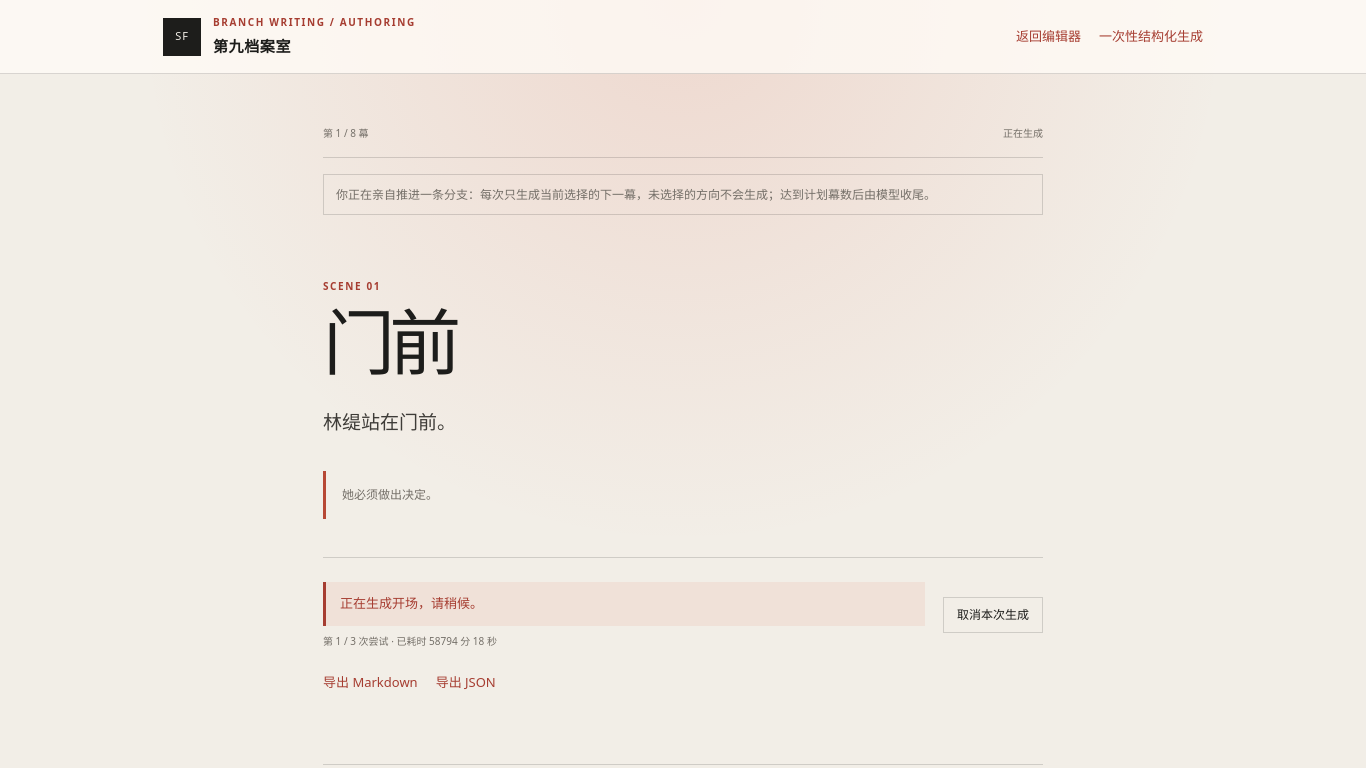
Test: InteractivePlayer › allows the author to cancel a generation in progress
Expected: the text "正在生成开场，请稍候。" is shown, [323,582,925,626]
Click the button "取消本次生成" at (993, 616), box [943,598,1043,634]
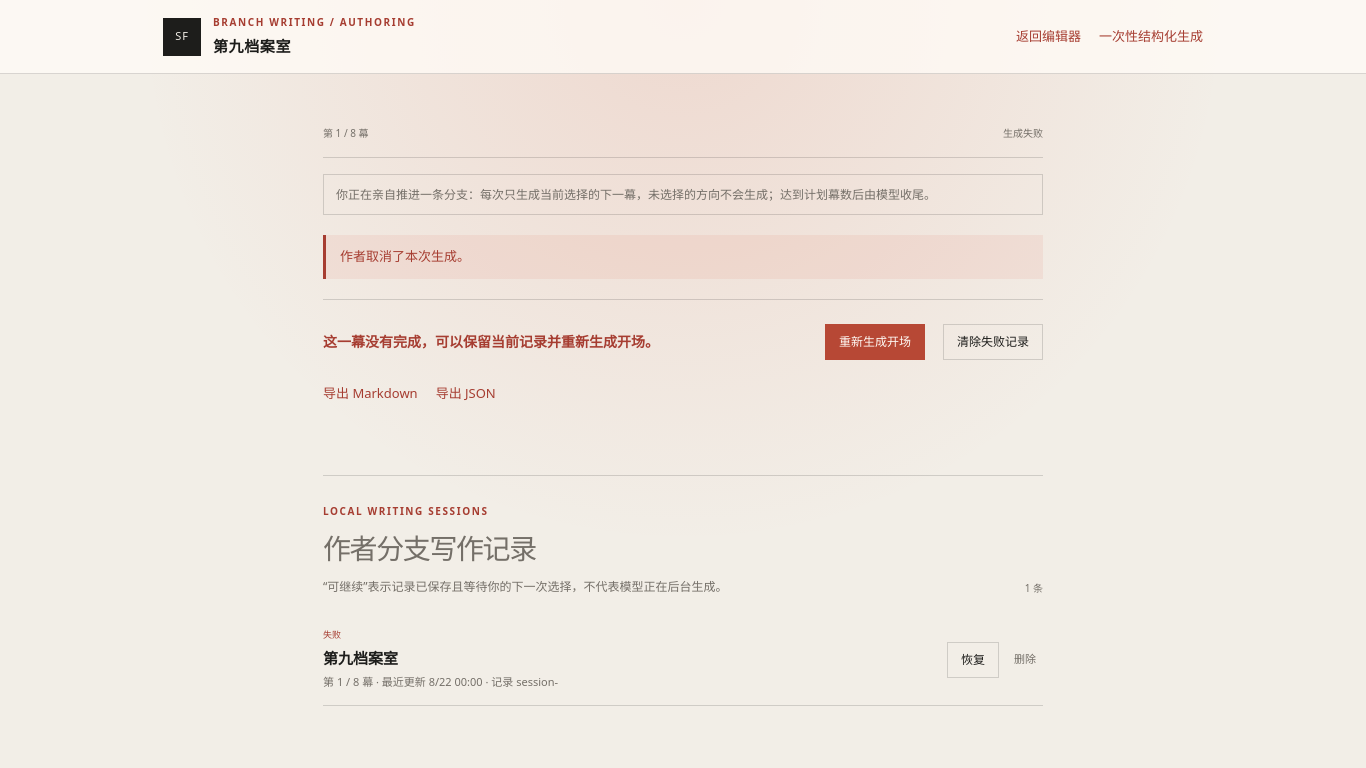
Result: the message reads "作者取消了本次生成。" at [340,247,470,265]
